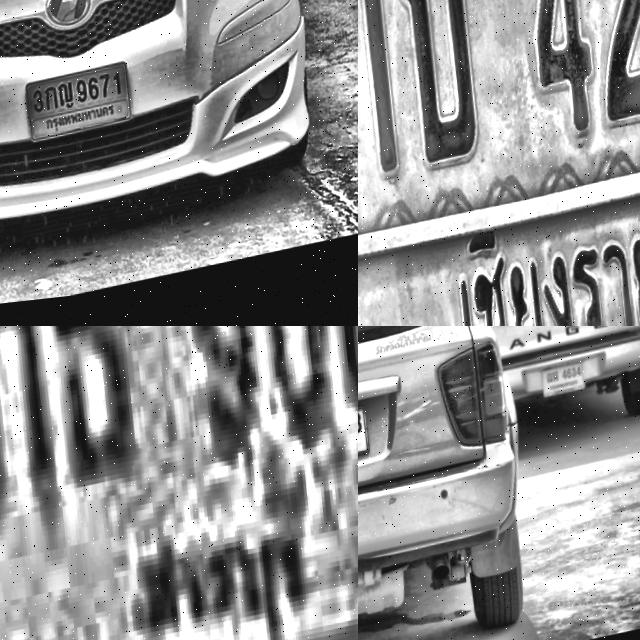license-plate: (0, 326, 358, 640), (358, 0, 640, 326), (21, 67, 136, 152), (540, 372, 588, 414)
